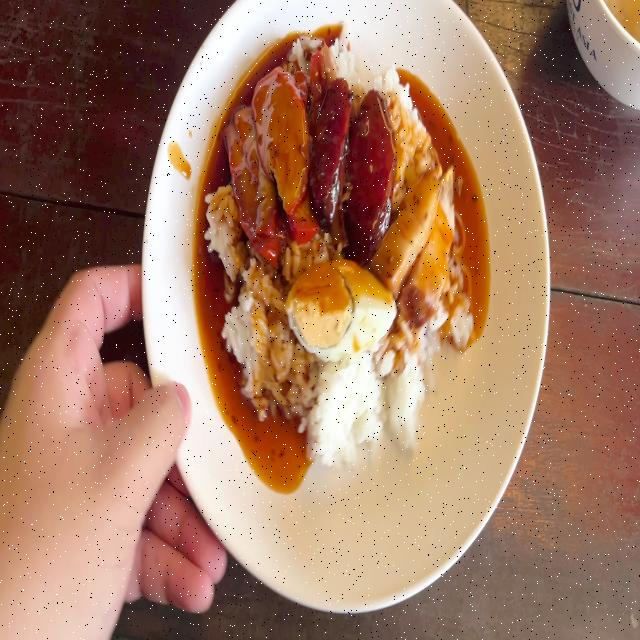boiled_egg: (287, 260, 395, 355)
chainese_sausage: (315, 80, 392, 242)
crispy_pork: (375, 171, 454, 305)
red_pork: (233, 71, 305, 235)
red_pork_and_crispy_pork: (206, 32, 477, 459)
rice: (279, 354, 430, 452), (228, 269, 284, 398), (214, 191, 242, 262)
